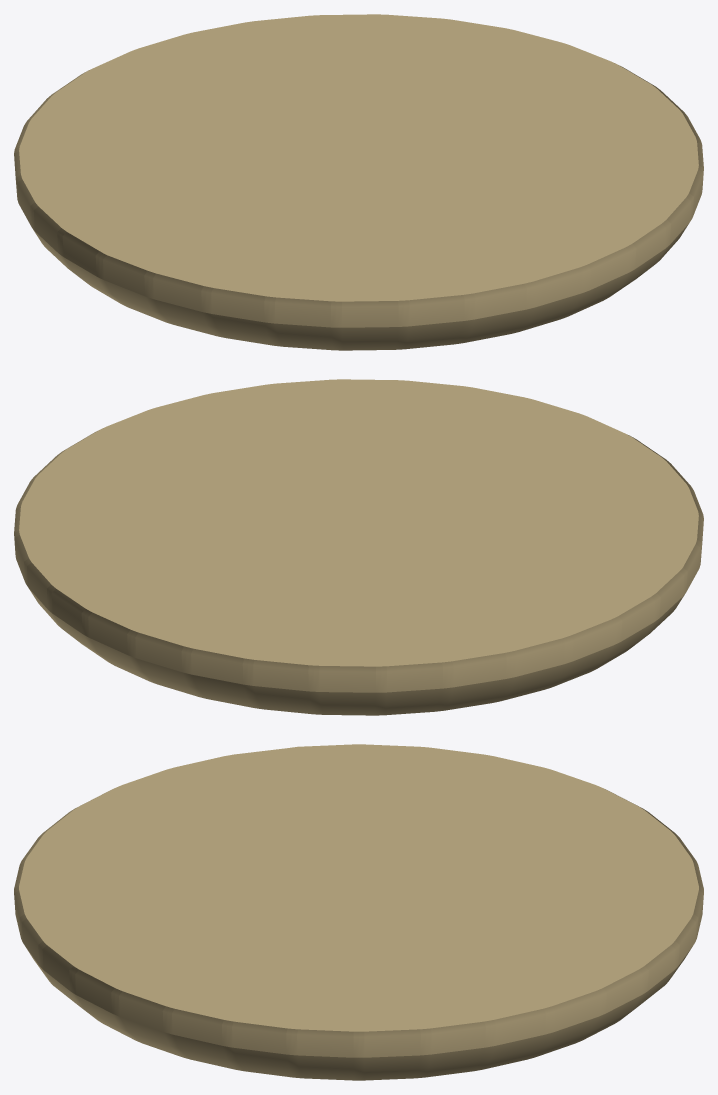
Rendered from hamburgerBunBottom.fbx.
The picture shows the model from 3 angles, top to bottom: view 1: azimuth 30°, elevation 25°; view 2: azimuth 150°, elevation 25°; view 3: azimuth 270°, elevation 25°; orthographic projection.
Visible parts, largest first — view 1: hamburgerBunBottom; view 2: hamburgerBunBottom; view 3: hamburgerBunBottom.
Boxes of the visible parts, x1,y1,x2,y2 form: hamburgerBunBottom: (14, 14, 703, 350); hamburgerBunBottom: (14, 379, 703, 715); hamburgerBunBottom: (14, 744, 703, 1080).
Size of the model in its own units: 8.92 by 1.3 by 8.92.
